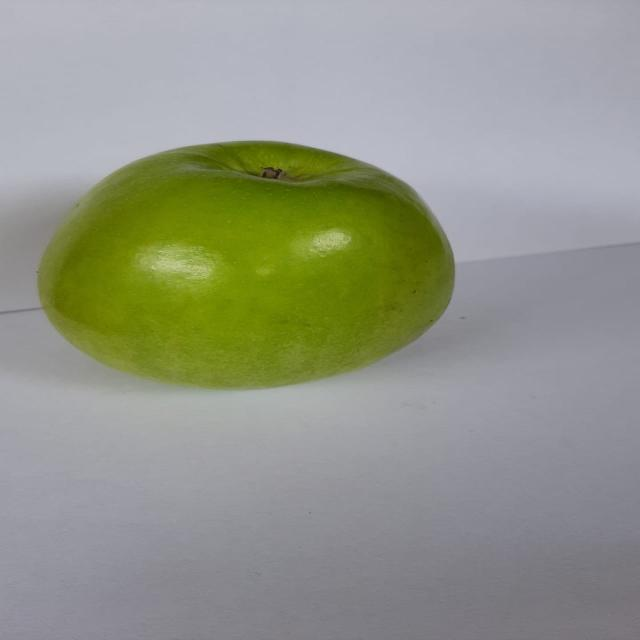50-_ripeness: (28, 136, 469, 398)
